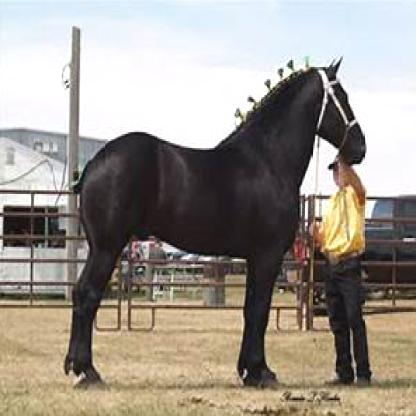horse: (60, 53, 366, 389)
